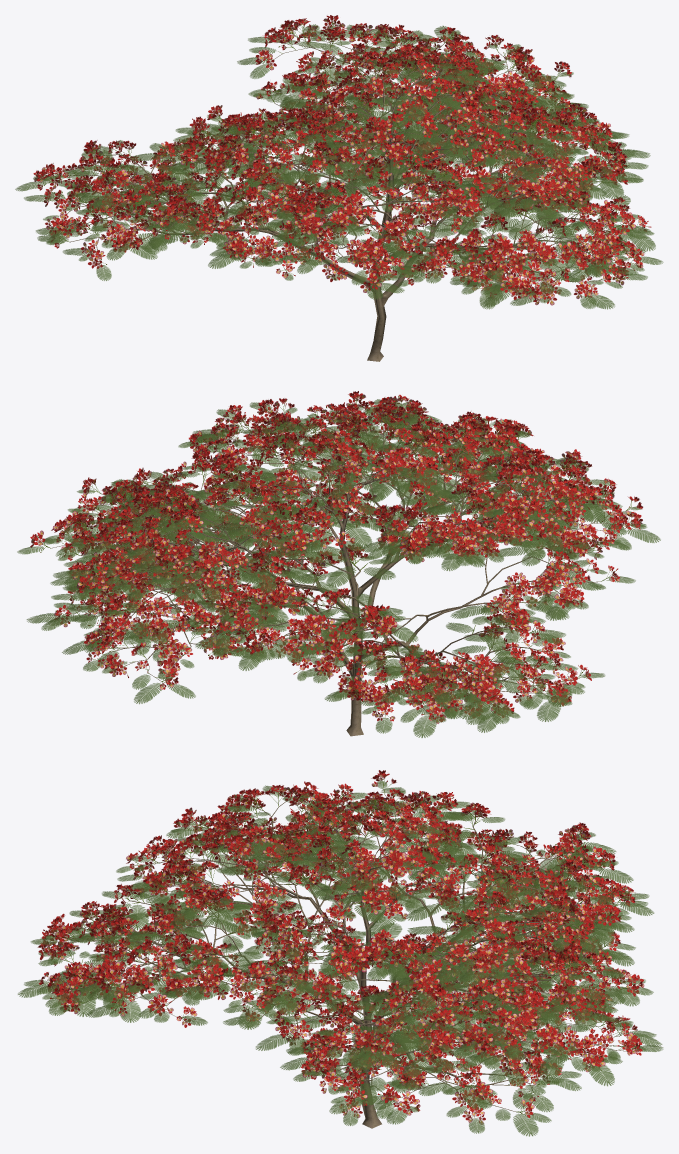
Rendered from poinciana_hd2.glb.
3 renders of one model, top to bottom at view 1: azimuth 30°, elevation 25°; view 2: azimuth 150°, elevation 25°; view 3: azimuth 270°, elevation 25°, orthographic. The views are drawn at different scales.
Visible parts, largest first — view 1: Delonix_regia_HD_w; view 2: Delonix_regia_HD_w; view 3: Delonix_regia_HD_w.
Part boxes in pixels (x1,y1,x2,y2): Delonix_regia_HD_w: (15,15,663,361); Delonix_regia_HD_w: (17,391,660,737); Delonix_regia_HD_w: (18,770,663,1136).
Bounding box in the file's own units: 13.77 × 7 × 13.44.
9 materials, 9 textured.
